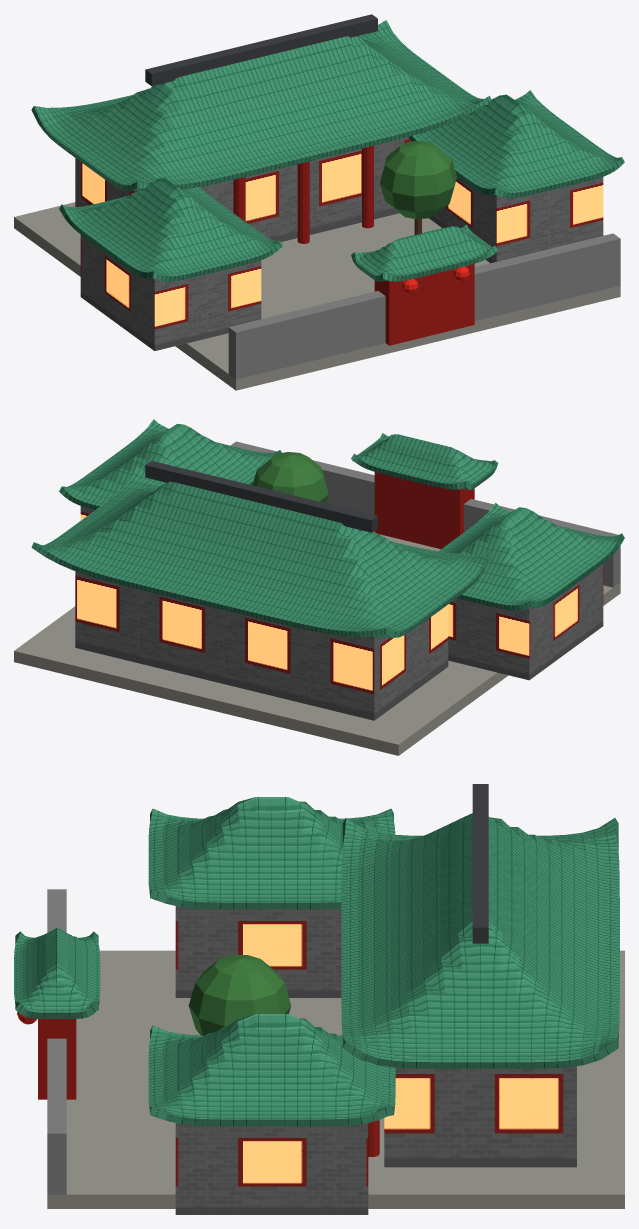
Rendered from chn_house_b.glb.
3 views of the same model, one above another, from view 1: azimuth 30°, elevation 25°; view 2: azimuth 150°, elevation 25°; view 3: azimuth 270°, elevation 25° (orthographic). The views are drawn at different scales.
Parts seen in each view (by area): view 1: croof.003; view 2: croof.003; view 3: croof.003.
Boxes of the visible parts, left/top/right/bottom form: croof.003: left=14, top=14, right=624, bottom=390; croof.003: left=14, top=419, right=624, bottom=755; croof.003: left=14, top=784, right=624, bottom=1214.
Size of the model in its own units: 22.16 by 7.95 by 19.04.
9 materials, 2 textured.
